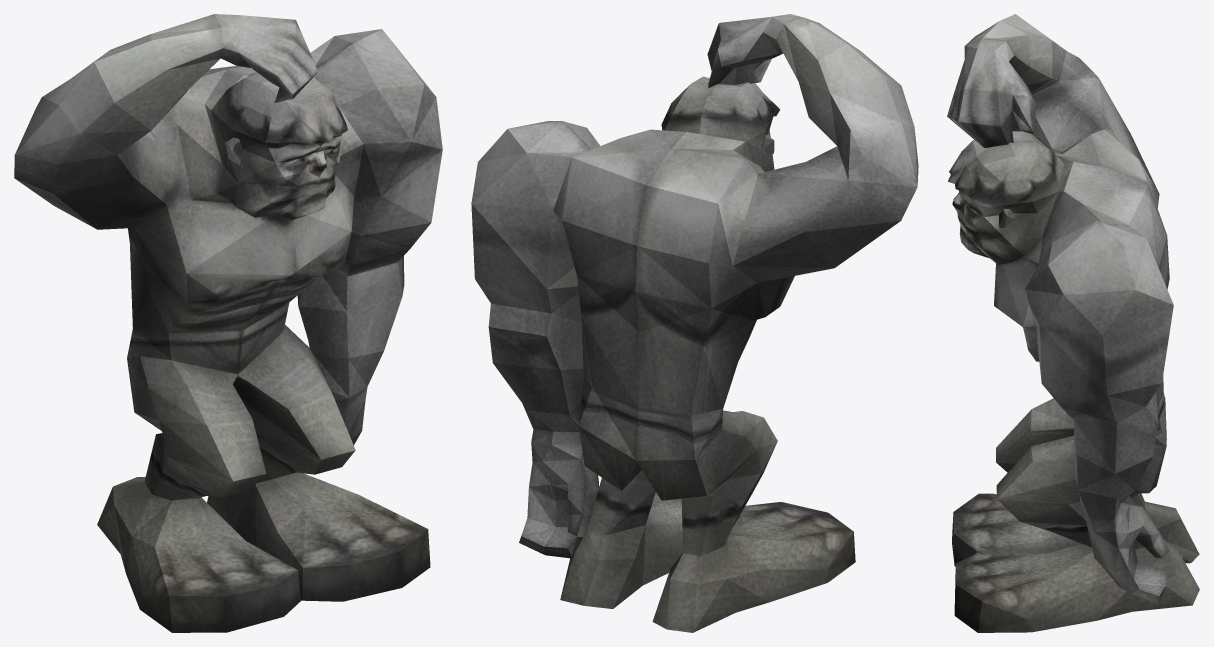
The model's file is Krunk Statue.obj.
3 views of the same model, side by side, from view 1: azimuth 30°, elevation 25°; view 2: azimuth 150°, elevation 25°; view 3: azimuth 270°, elevation 25° (orthographic). The views are drawn at different scales.
Visible parts, largest first — view 1: Inst3D_RefRep.480_Ref; view 2: Inst3D_RefRep.480_Ref; view 3: Inst3D_RefRep.480_Ref.
Part boxes in pixels (left/top/right/bottom): Inst3D_RefRep.480_Ref: left=14, top=14, right=442, bottom=632; Inst3D_RefRep.480_Ref: left=471, top=14, right=918, bottom=632; Inst3D_RefRep.480_Ref: left=947, top=14, right=1199, bottom=632.
Size of the model in its own units: 3.41 by 4.35 by 1.96.
Materials: 1 (1 with a texture image).
